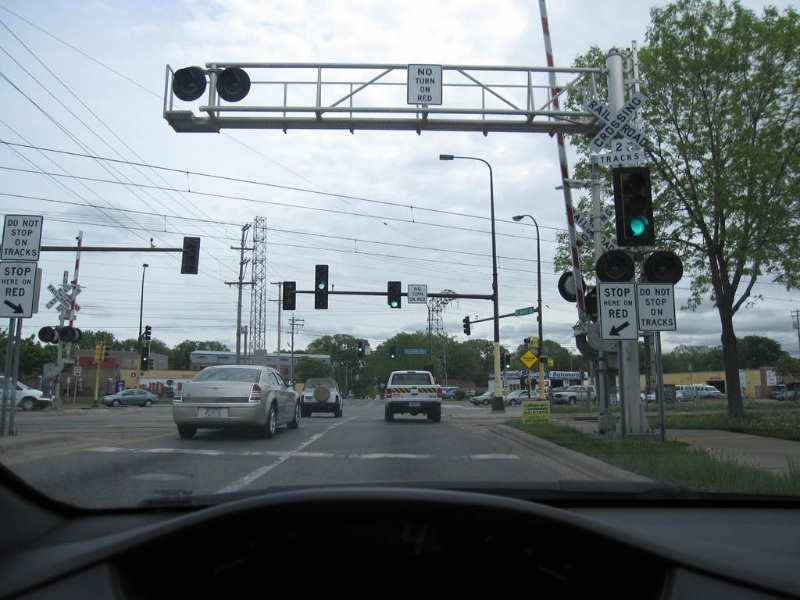green_light: (622, 212, 654, 242)
left_direction: (605, 320, 633, 339)
